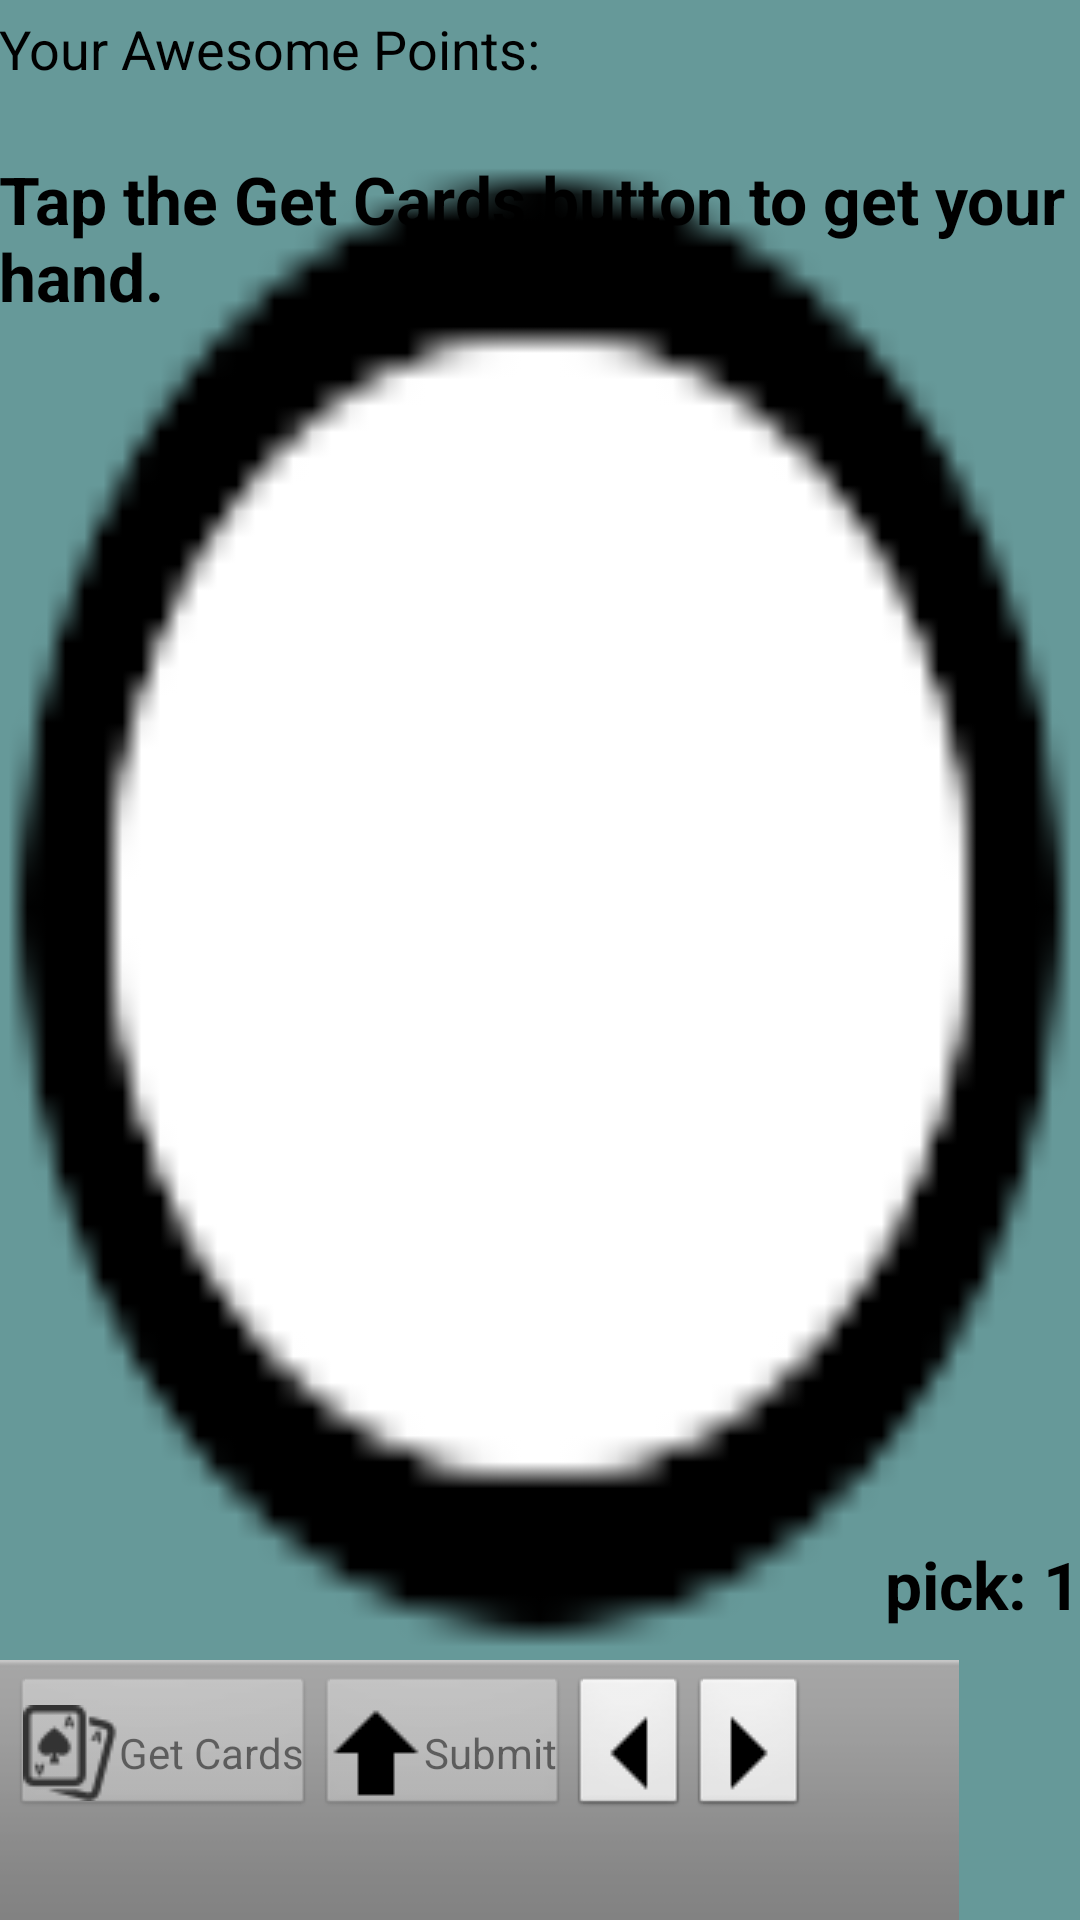

Icon click points for this 1080px×1920px phone screenshot, format (x=x, y=y):
Back: (x=628, y=1743)
Next: (x=748, y=1743)
